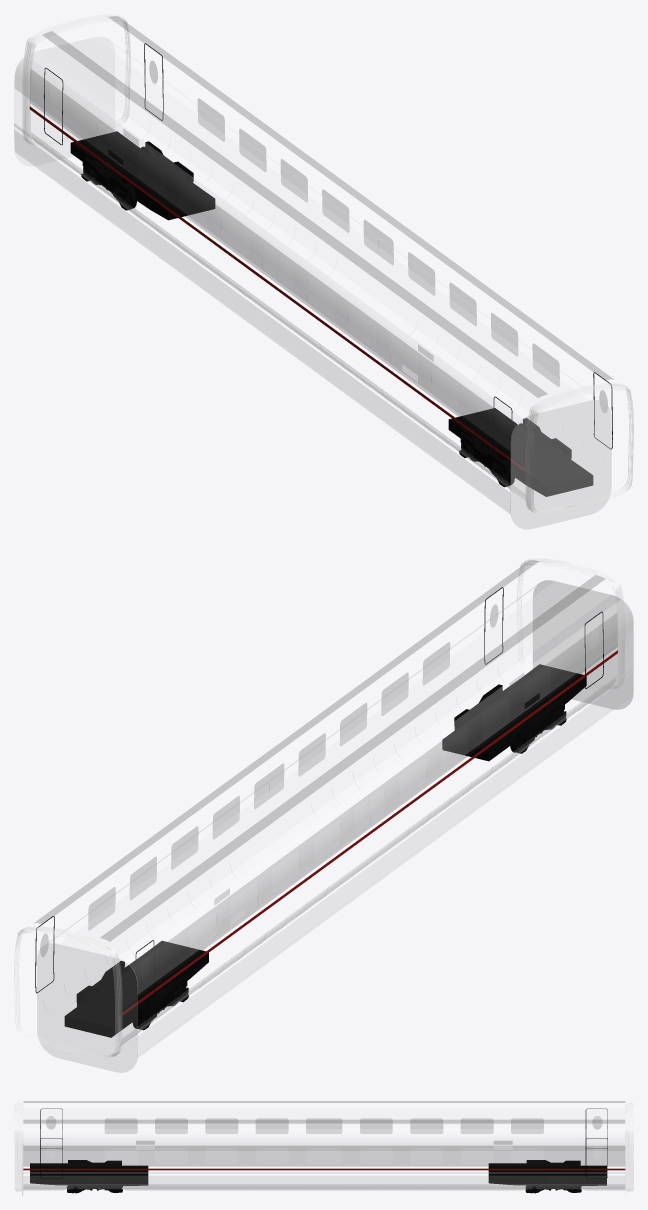
The model's file is traction_car_transparent.glb.
The picture shows the model from 3 angles, top to bottom: view 1: azimuth 30°, elevation 25°; view 2: azimuth 150°, elevation 25°; view 3: azimuth 270°, elevation 25°; orthographic projection. The views are drawn at different scales.
Visible parts, largest first — view 1: TL0026, TL0009, TL0007, TL0010, TL0006, TL0025.001, TL0027, TL0025, TL0012; view 2: TL0026, TL0009, TL0007, TL0010, TL0006, TL0025, TL0027, TL0025.001, TL0012; view 3: TL0026, TL0009, TL0010, TL0007, TL0006, TL0027, TL0025, TL0025.001, TL0012.
Part boxes in pixels (x1,y1,x2,y2): TL0026: (14,36,611,529); TL0009: (30,16,613,453); TL0007: (70,131,593,496); TL0010: (49,61,607,437); TL0006: (31,133,519,493); TL0025.001: (525,383,633,513); TL0027: (29,106,525,471); TL0025: (23,14,130,144); TL0012: (43,43,612,473); TL0026: (37,580,633,1072); TL0009: (35,560,617,1007); TL0007: (64,664,586,1037); TL0010: (40,604,598,980); TL0006: (122,676,616,1044); TL0025: (14,926,122,1056); TL0027: (122,650,617,1015); TL0025.001: (517,558,623,688); TL0012: (35,587,603,1017); TL0026: (22,1107,624,1195); TL0009: (23,1101,624,1166); TL0010: (46,1116,602,1163); TL0007: (30,1160,606,1193); TL0006: (23,1184,624,1190); TL0027: (23,1168,625,1170); TL0025: (625,1102,633,1191); TL0025.001: (14,1102,22,1191); TL0012: (40,1108,607,1178).
Bounding box in the file's own units: 4 × 4.24 × 29.96.
